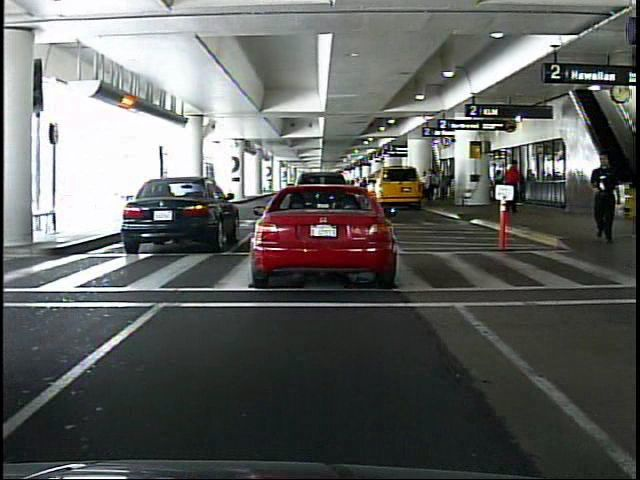person: (587, 152, 617, 246), (503, 159, 523, 214), (420, 165, 433, 202)
